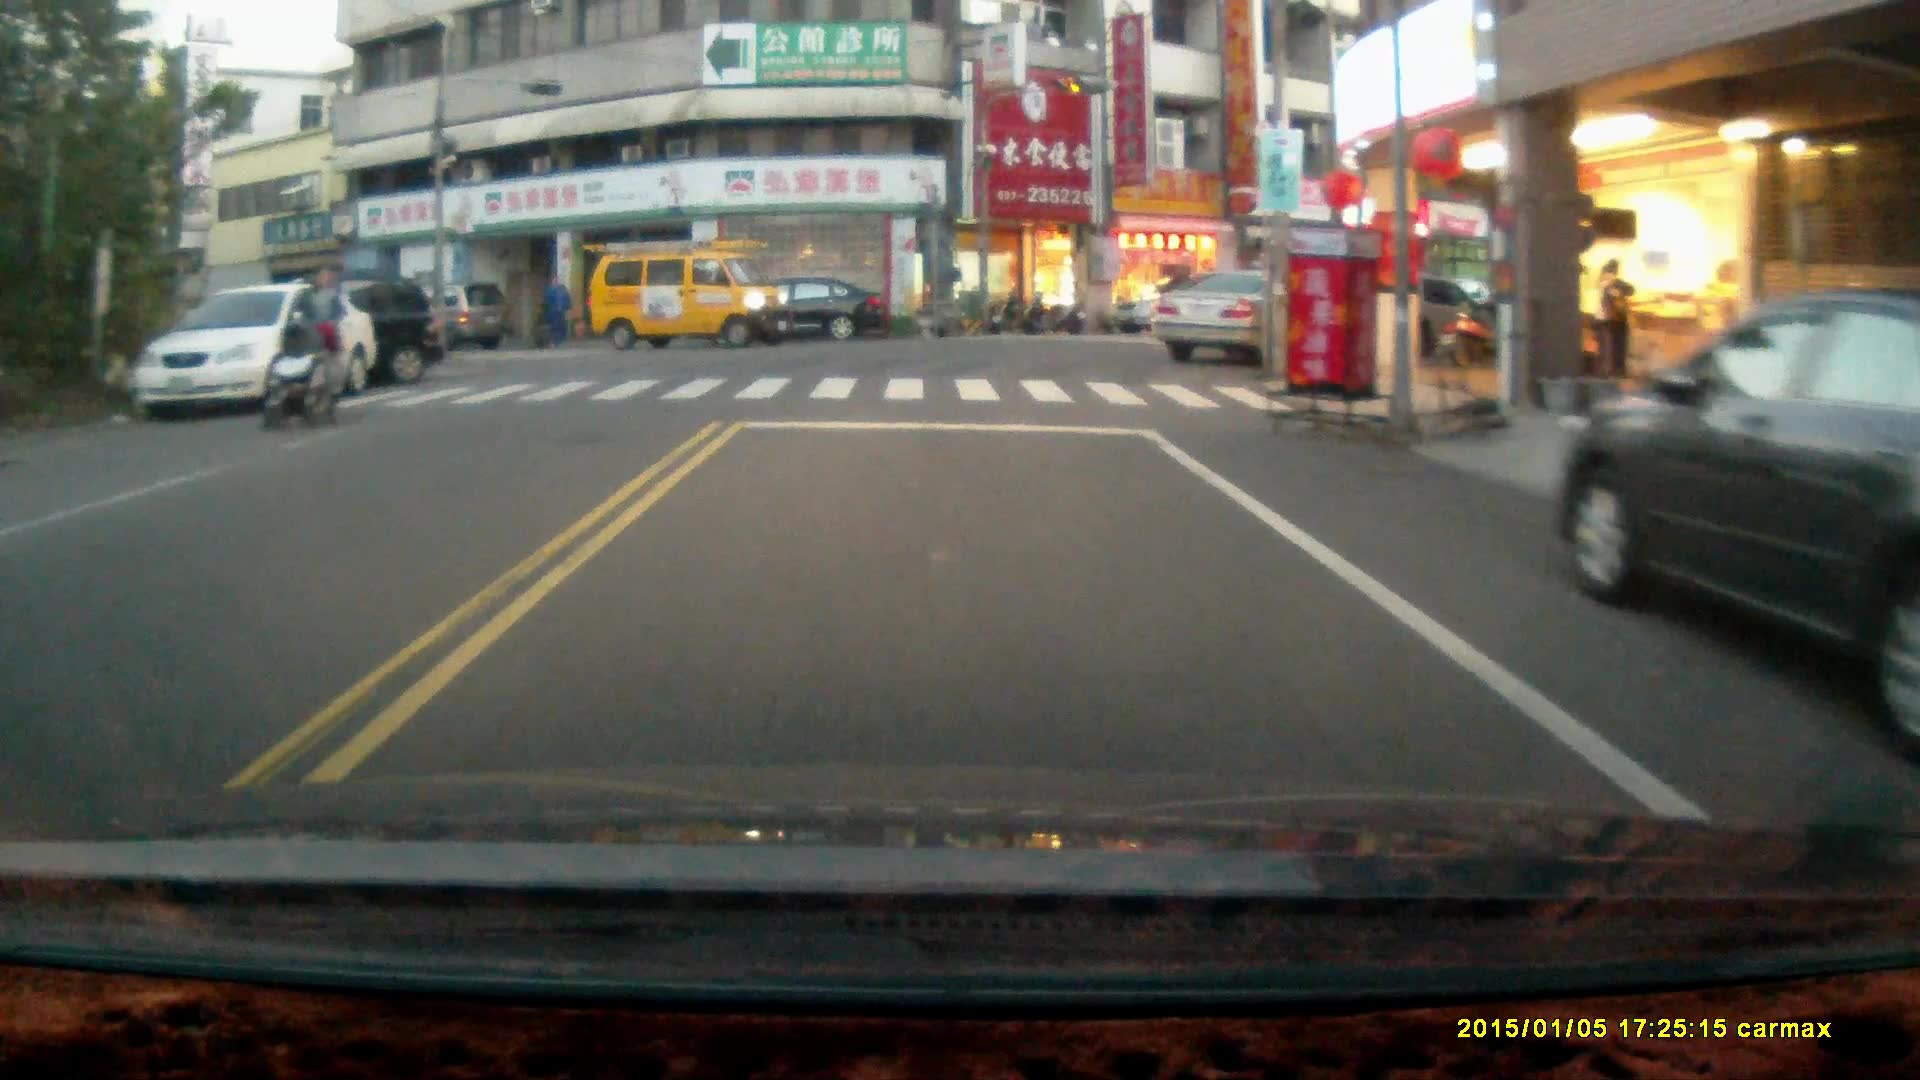pedestrian: (298, 267, 343, 406), (1600, 259, 1635, 386), (546, 275, 572, 348)
rider: (257, 317, 341, 435)
vehicle: (1560, 293, 1920, 769), (126, 286, 375, 420), (214, 272, 441, 392), (589, 238, 795, 349), (1158, 270, 1317, 365), (719, 278, 888, 351), (389, 277, 523, 361)
